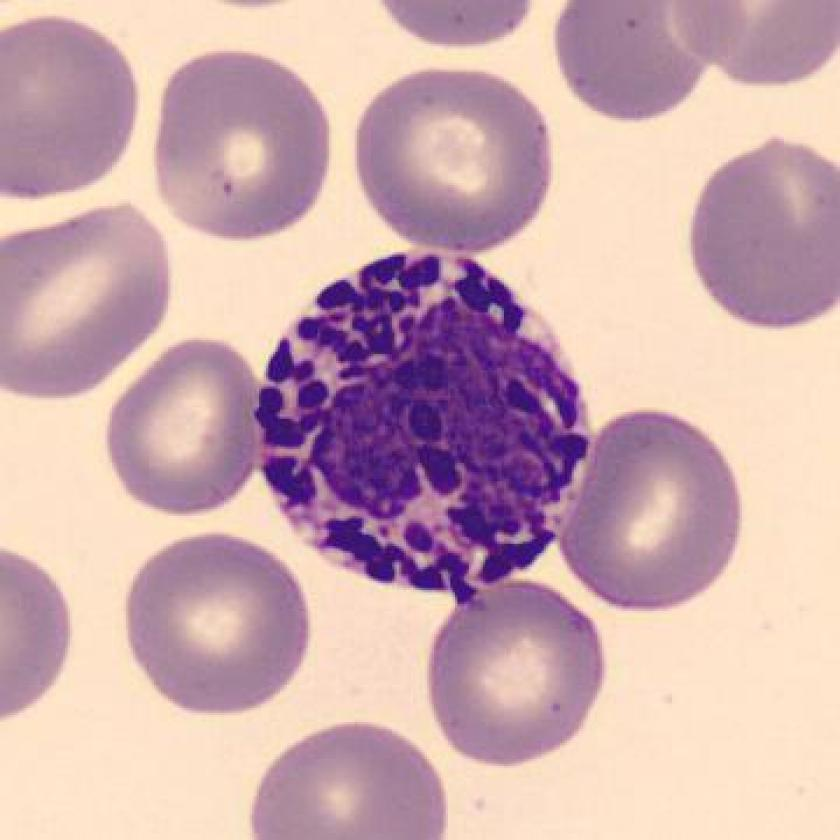basophil: (255, 246, 603, 610)
